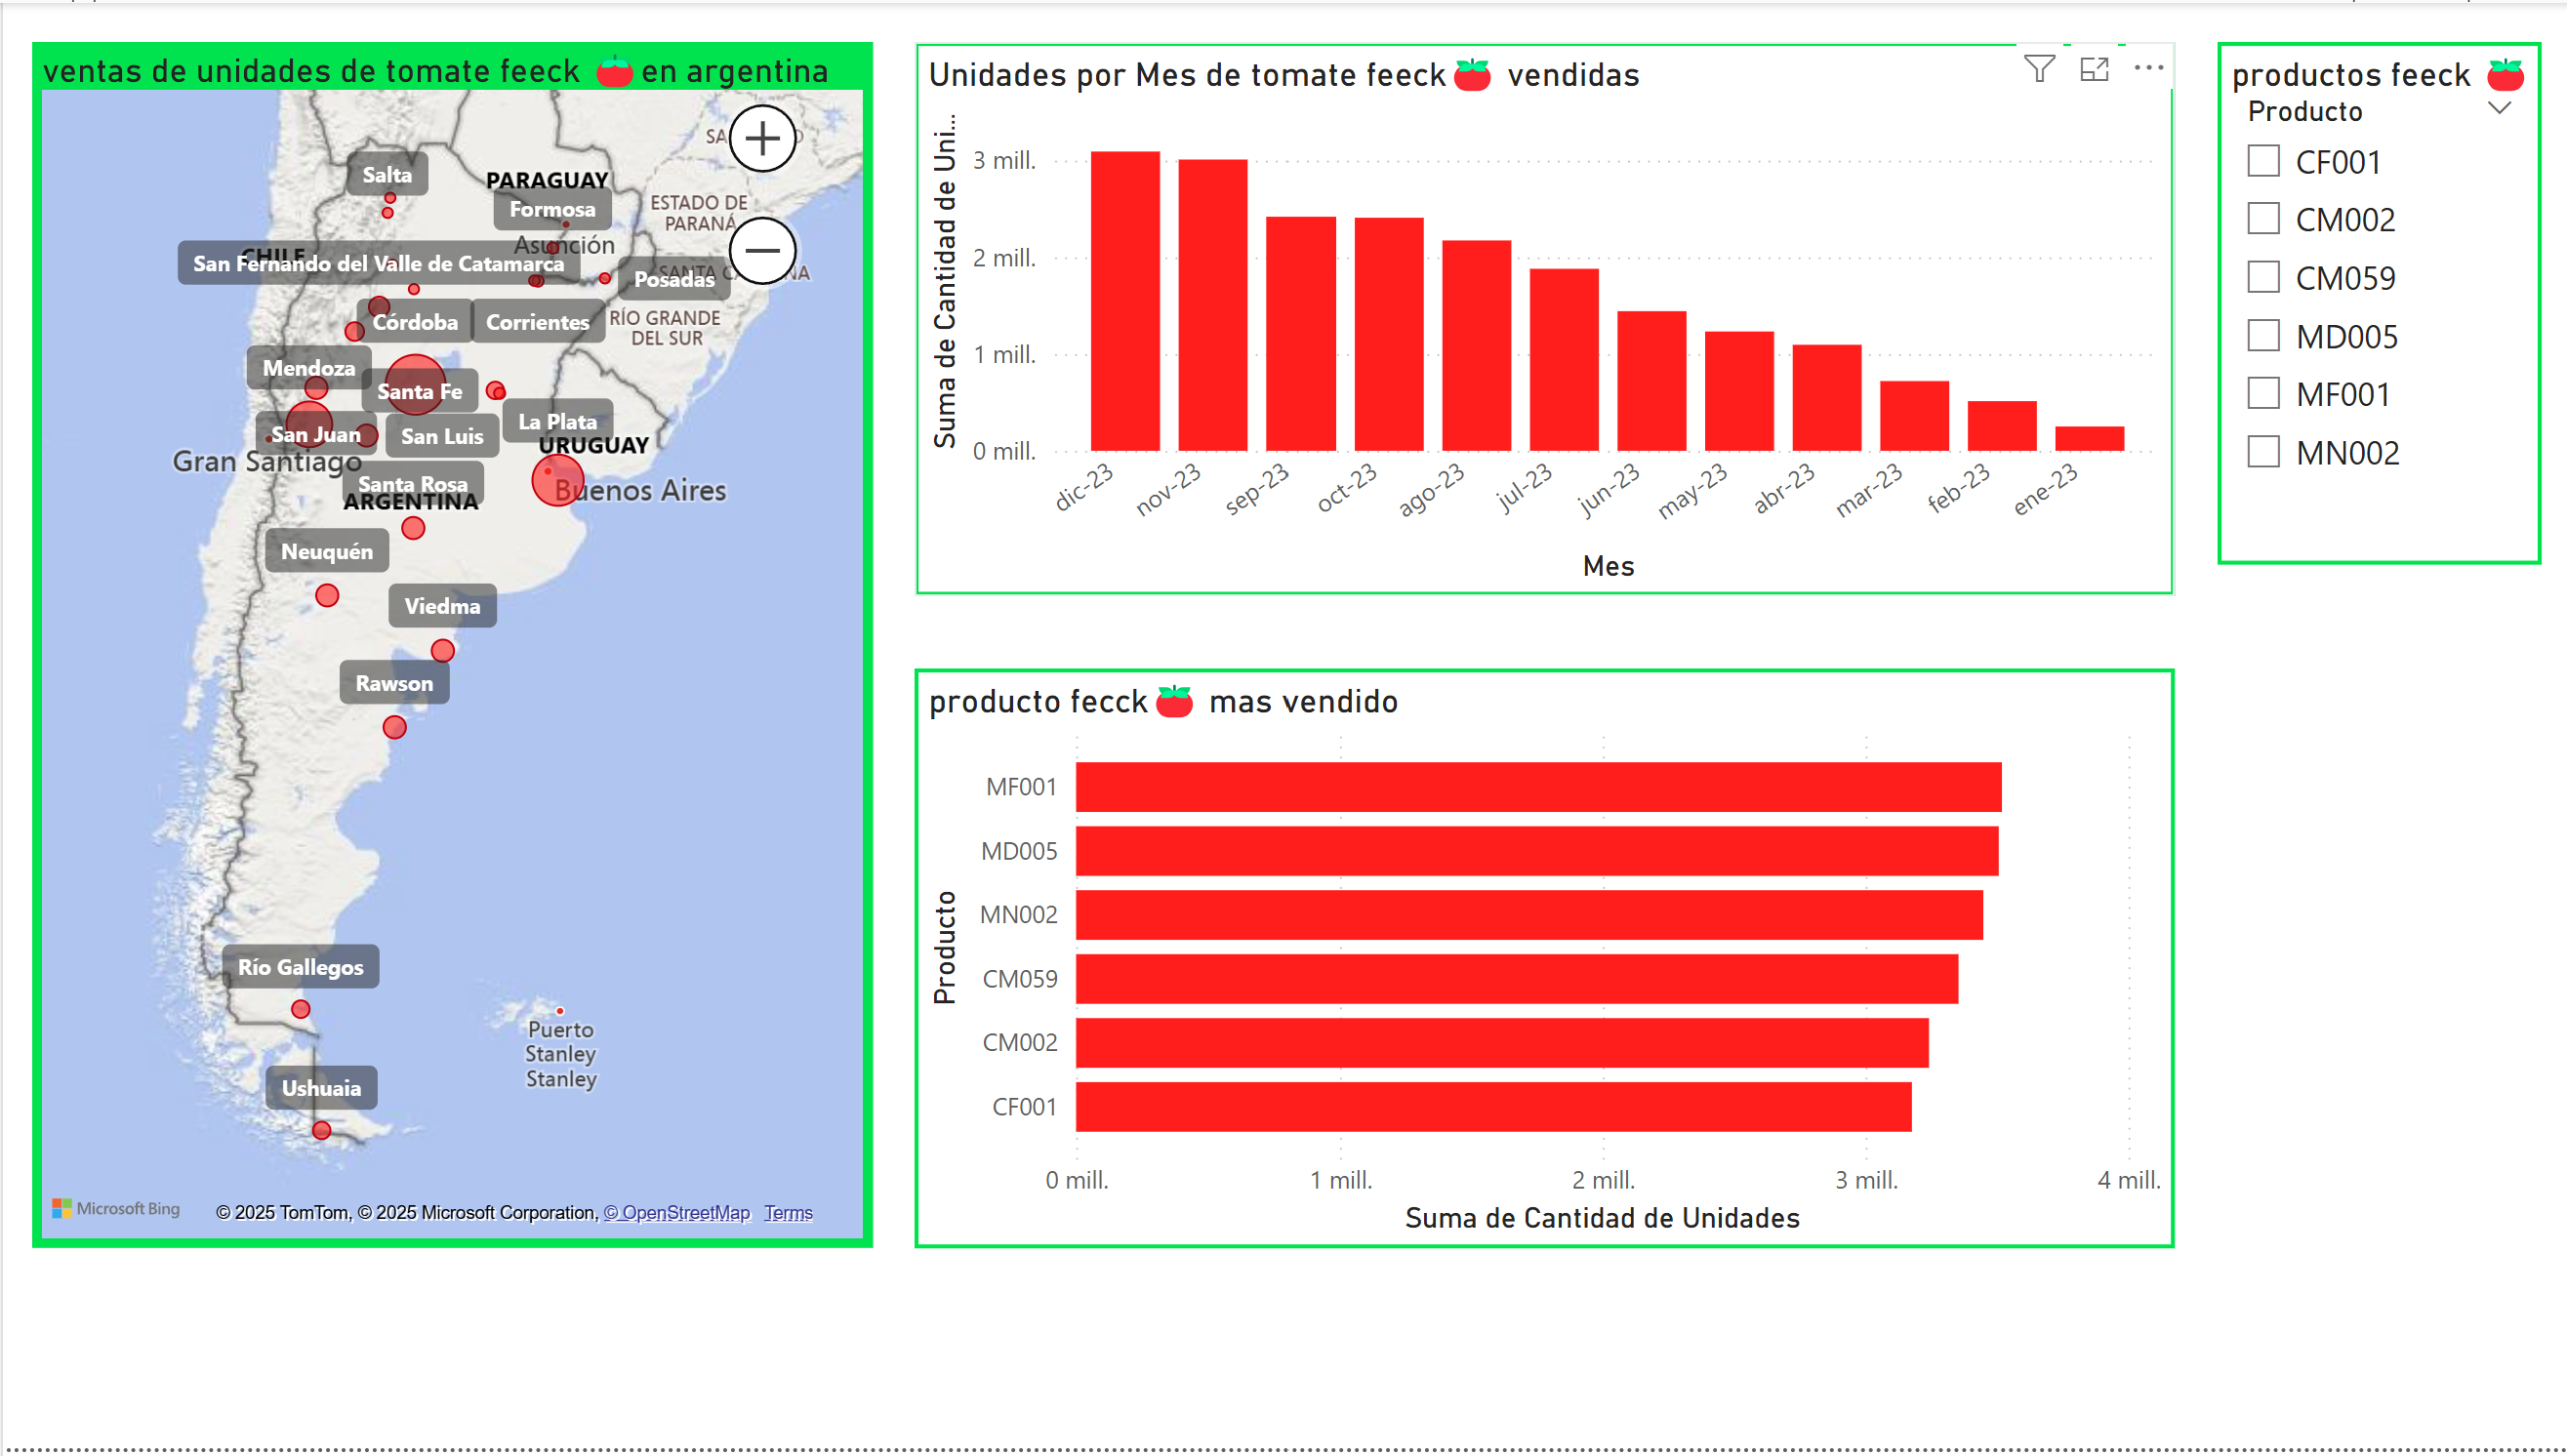

The dashboard page shown, as its layout file describes it:
{"tool":"powerbi","page":{"name":"Página 1","canvas":[1280,720],"ordinal":0},"visuals":[{"type":"map","title":"ventas de unidades de tomate feeck 🍅en argentina","fields":{"Y":["Sum(Tabla_Capitales.Latitud)"],"X":["Sum(Tabla_Capitales.Longitud)"],"Category":["Tabla_Capitales.Capital"],"Size":["Sum(Ventas.Cantidad de Unidades)"]},"box":[14.6,19.5,419.2,601.1],"z":0},{"type":"columnChart","title":"Unidades por Mes de tomate feeck🍅 vendidas","fields":{"Category":["Ventas.Mes"],"Y":["Sum(Ventas.Cantidad de Unidades)"]},"box":[454.2,19.5,627.4,276.2],"z":1000},{"type":"clusteredBarChart","title":"producto fecck🍅 mas vendido","fields":{"Y":["Sum(Ventas.Cantidad de Unidades)"],"Category":["Ventas.Producto"]},"box":[454.2,331.7,627.4,288.9],"z":2000},{"type":"slicer","title":"productos feeck 🍅","fields":{"Values":["Ventas.Producto"]},"box":[1103,19.5,161.5,260.7],"z":2001}]}

Visuals, with their boxes in screenshot pixels (x1, y1, x2, y2), scaled from the page's 1280x720 canvas onto the 2567x1456 screenshot:
"ventas de unidades de tomate feeck 🍅en argentina" map: {"left": 29, "top": 39, "right": 870, "bottom": 1255}
"Unidades por Mes de tomate feeck🍅 vendidas" columnChart: {"left": 911, "top": 39, "right": 2169, "bottom": 598}
"producto fecck🍅 mas vendido" clusteredBarChart: {"left": 911, "top": 670, "right": 2169, "bottom": 1255}
"productos feeck 🍅" slicer: {"left": 2212, "top": 39, "right": 2536, "bottom": 567}
